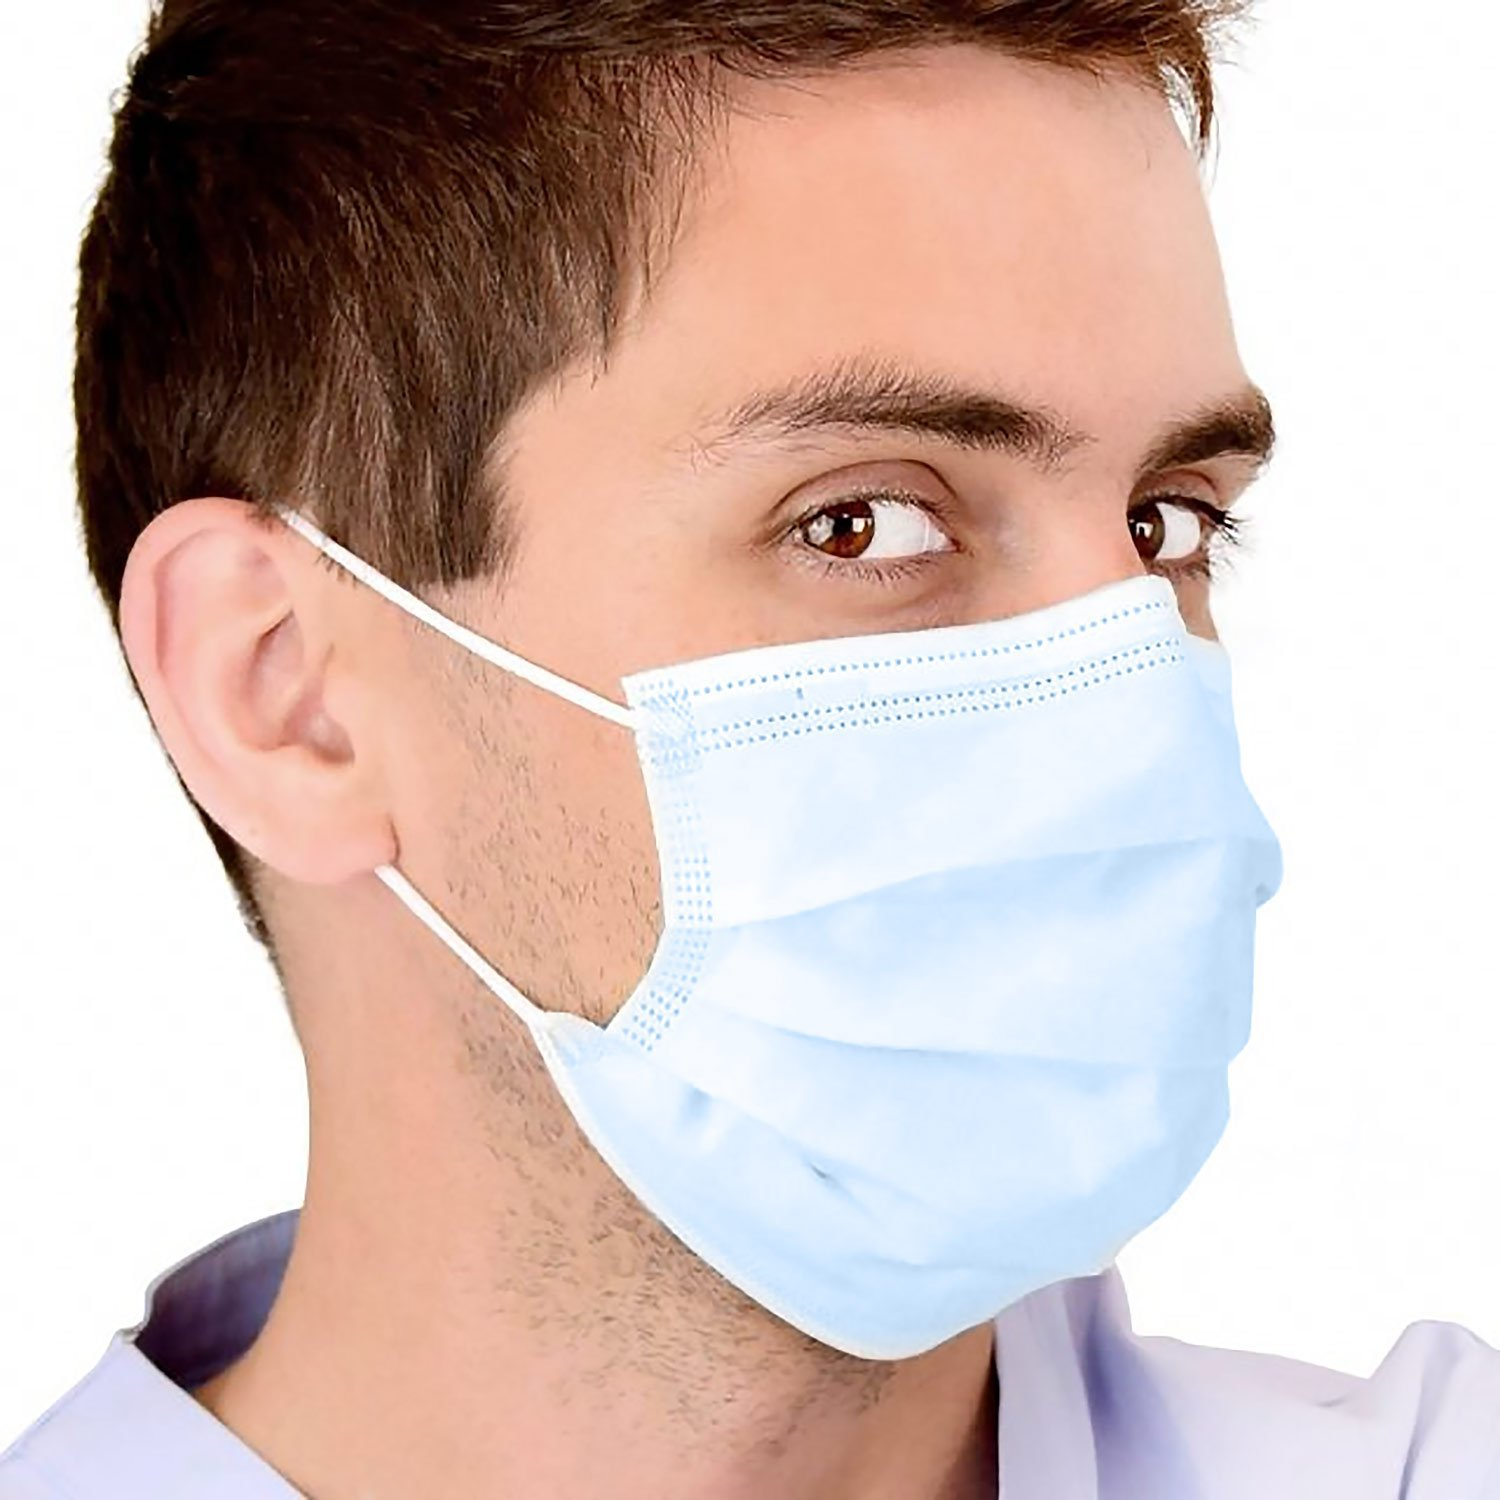mask: (75, 18, 1340, 1400)
